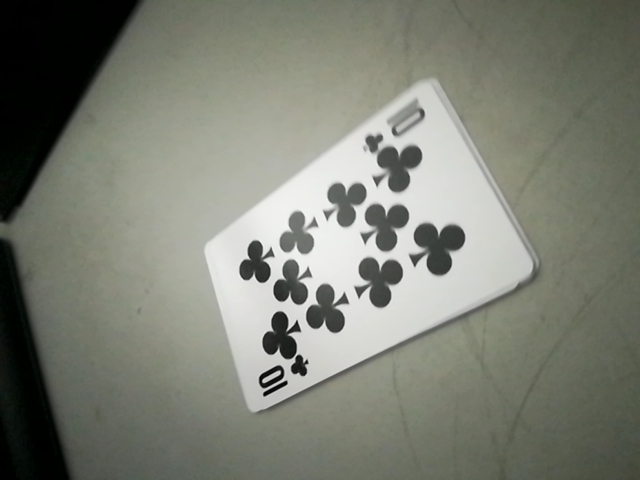mh 10: (359, 92, 434, 155), (249, 352, 316, 410)
